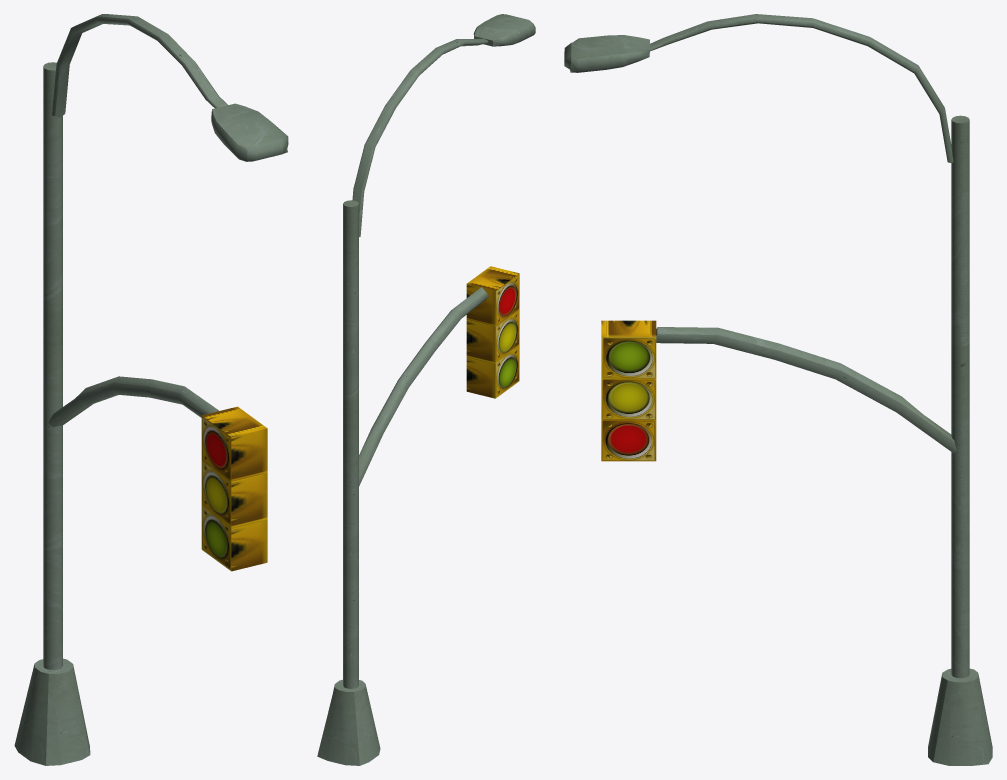
The model's file is trafic light.FBX.
3 views of the same model, side by side, from view 1: azimuth 30°, elevation 25°; view 2: azimuth 150°, elevation 25°; view 3: azimuth 270°, elevation 25° (orthographic). The views are drawn at different scales.
Visible parts, largest first — view 1: Box001; view 2: Box001; view 3: Box001.
Part boxes in pixels (x1,y1,x2,y2): Box001: [14, 14, 288, 765]; Box001: [317, 14, 535, 765]; Box001: [564, 14, 992, 765].
Bounding box in the file's own units: 2.3 × 29.43 × 15.5.
